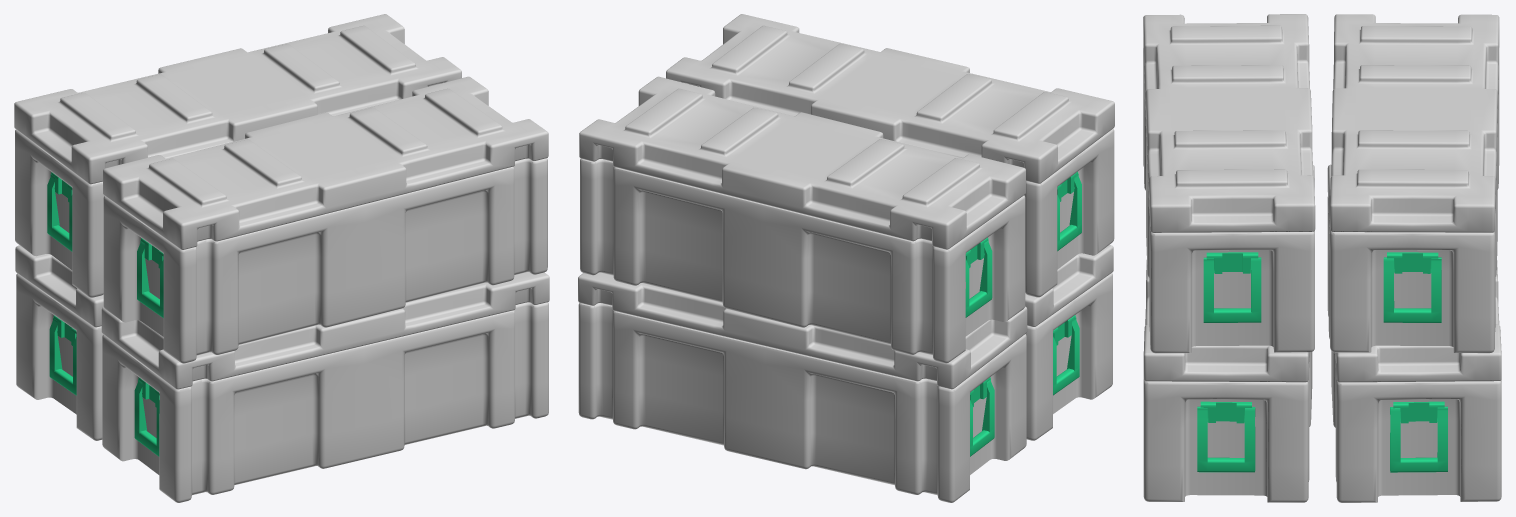
Rendered from case_set.fbx.
3 renders of one model, left to right at view 1: azimuth 30°, elevation 25°; view 2: azimuth 150°, elevation 25°; view 3: azimuth 270°, elevation 25°, orthographic. The views are drawn at different scales.
Parts seen in each view (by area): view 1: Cube.009, Cube.005, Cube.008, Cube.001; view 2: Cube.008, Cube.001, Cube.009, Cube.005; view 3: Cube.009, Cube.008, Cube.001, Cube.005.
Boxes of the visible parts, x1=… form: Cube.009: x1=103, y1=76, x2=548, y2=363; Cube.005: x1=101, y1=272, x2=549, y2=502; Cube.008: x1=14, y1=14, x2=461, y2=297; Cube.001: x1=15, y1=245, x2=103, y2=440; Cube.008: x1=579, y1=76, x2=1025, y2=363; Cube.001: x1=578, y1=272, x2=1027, y2=502; Cube.009: x1=666, y1=14, x2=1114, y2=297; Cube.005: x1=1025, y1=245, x2=1113, y2=440; Cube.009: x1=1143, y1=14, x2=1315, y2=353; Cube.008: x1=1330, y1=14, x2=1499, y2=353; Cube.001: x1=1327, y1=164, x2=1501, y2=502; Cube.005: x1=1143, y1=165, x2=1314, y2=502.
Size of the model in its own units: 44.3 by 32.6 by 34.78.
